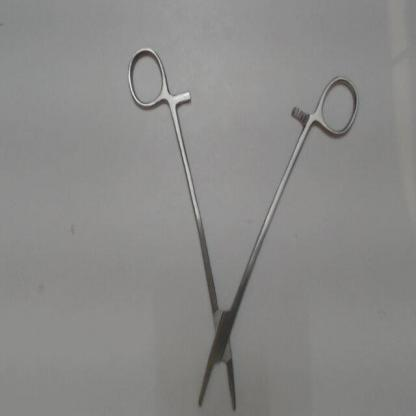8 Mayo Needle Holder: (120, 35, 368, 415)
